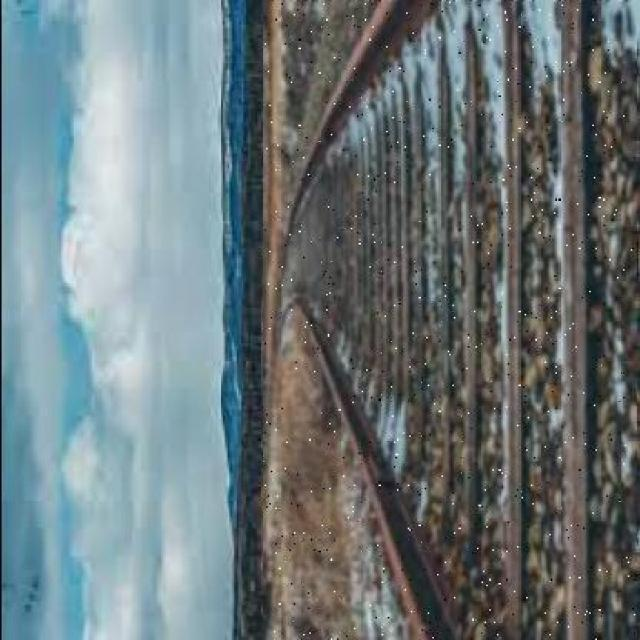rail: (262, 2, 634, 640)
